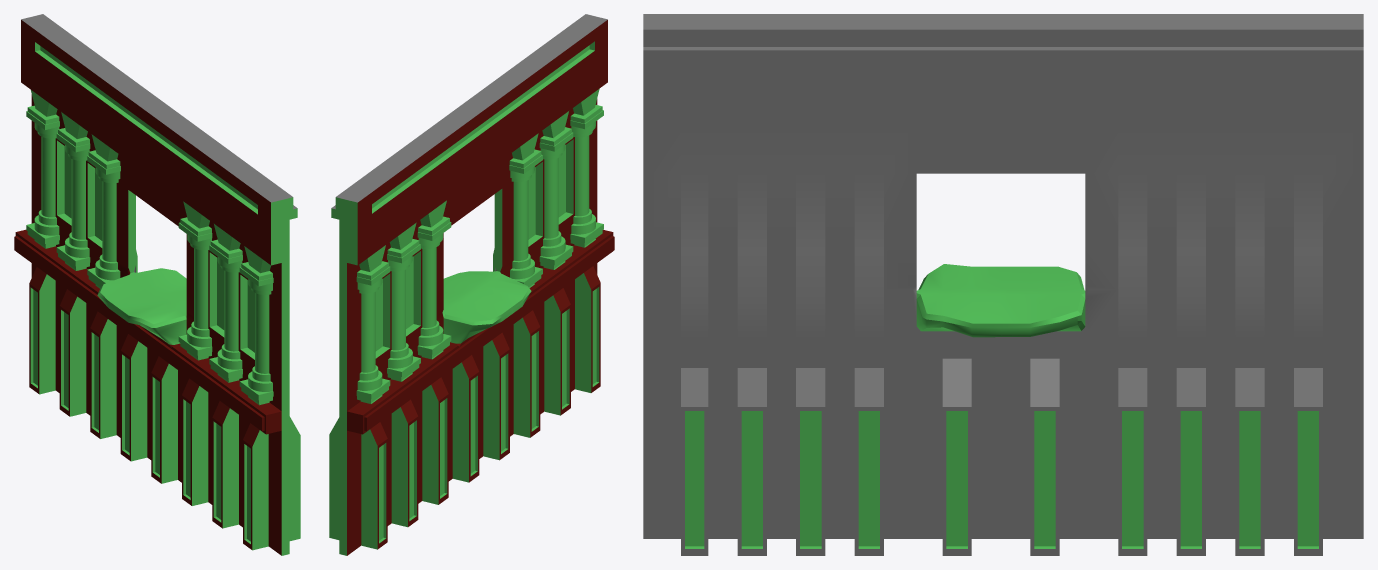
Rendered from SM_MurTrans2.fbx.
3 renders of one model, left to right at view 1: azimuth 30°, elevation 25°; view 2: azimuth 150°, elevation 25°; view 3: azimuth 270°, elevation 25°, orthographic. The views are drawn at different scales.
Visible parts, largest first — view 1: a; view 2: a; view 3: a.
Part boxes in pixels (x1,y1,x2,y2): a: (14, 14, 300, 555); a: (329, 14, 614, 555); a: (643, 14, 1363, 555).
Bounding box in the file's own units: 1061 × 4400 × 5607.
